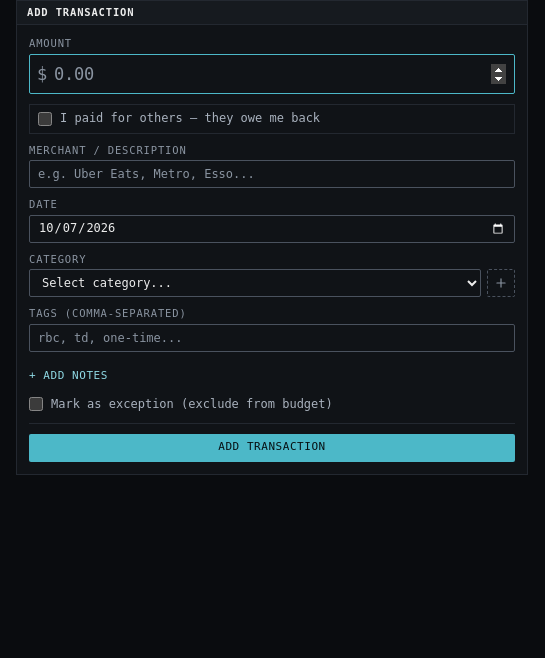
Test: the owed rules › needs at least two people for an even split
Type "100" into the number field labelled "Amount" at (272, 74), box [29,54,515,94]
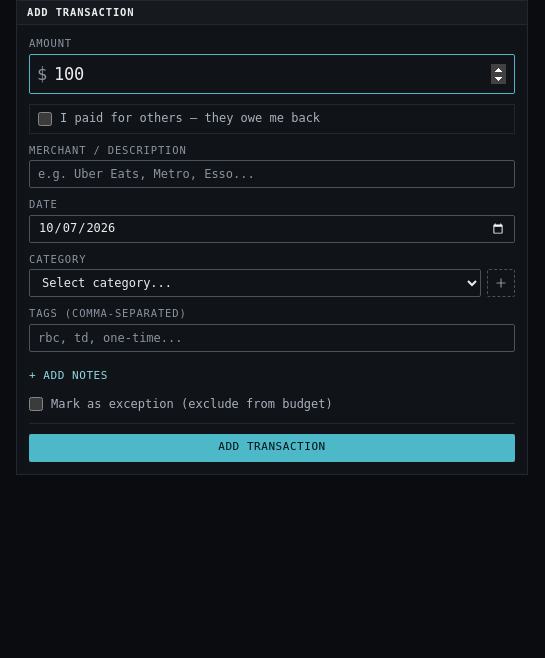
Type "Zyxo Mart" into the dropdown labelled "Merchant / Description" at (272, 174), box [29,160,515,188]
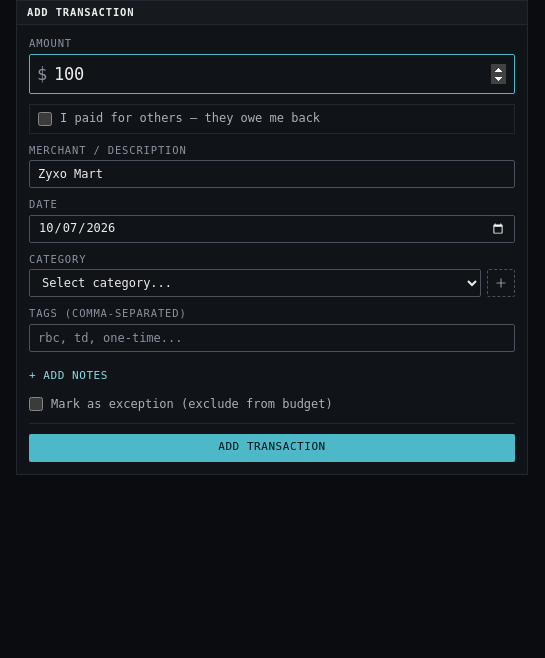
Select "Groceries" in the dropdown labelled "Category" at (255, 283), box [29,269,481,297]
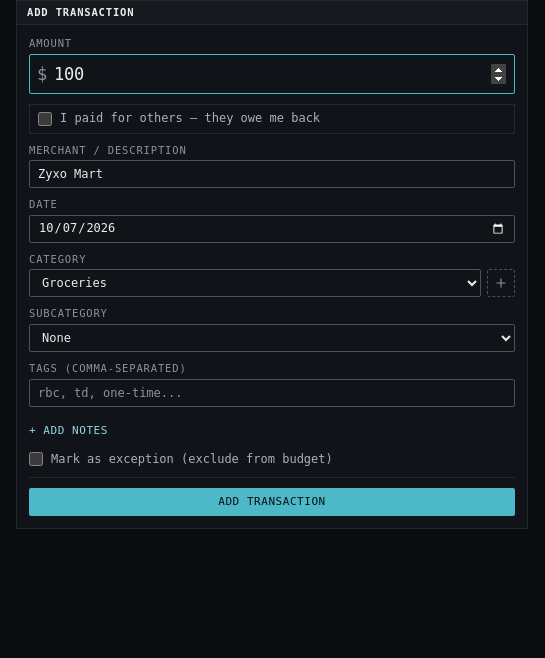
Click the checkbox labelled "I paid for others — they owe me back" at (45, 119), box [38,112,52,126]
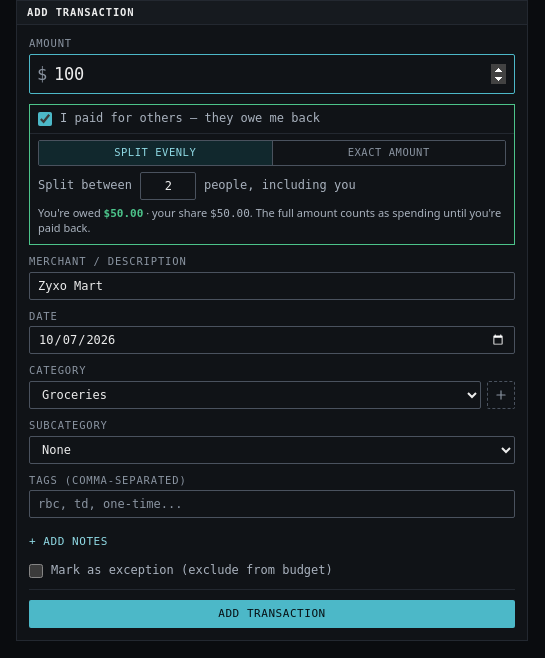
Clear the 2nd number field at (168, 186), box [140,172,196,200]
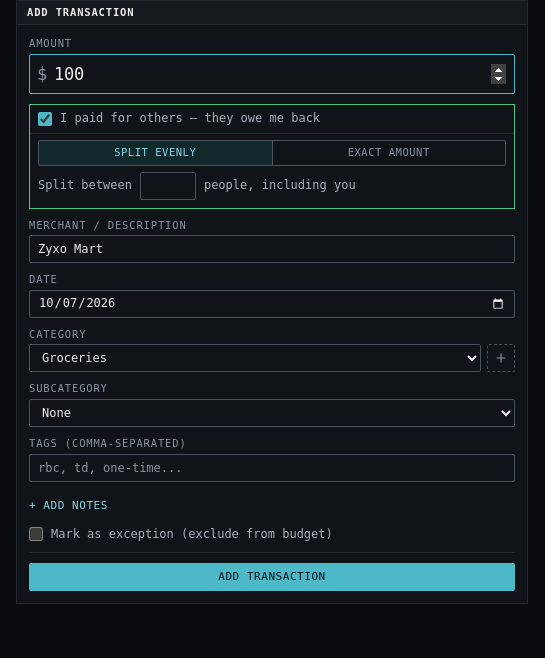
Click the button "Add Transaction" at (272, 577), box [29,563,515,591]
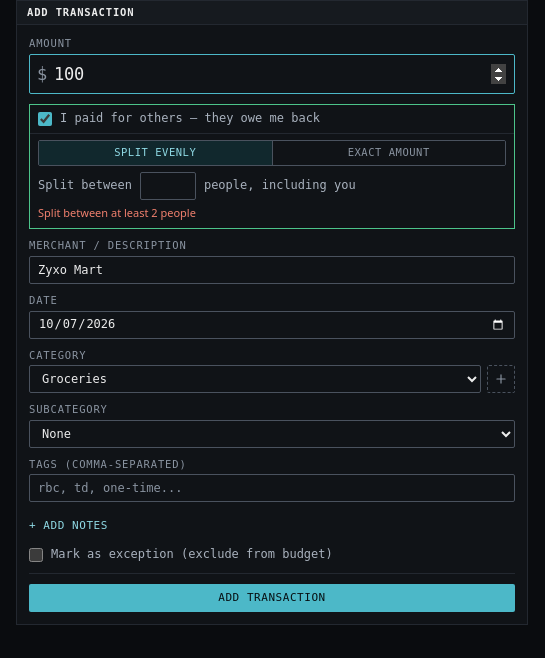
Check: the text "Split between at least 2 people" is shown, box [38,205,196,220]
